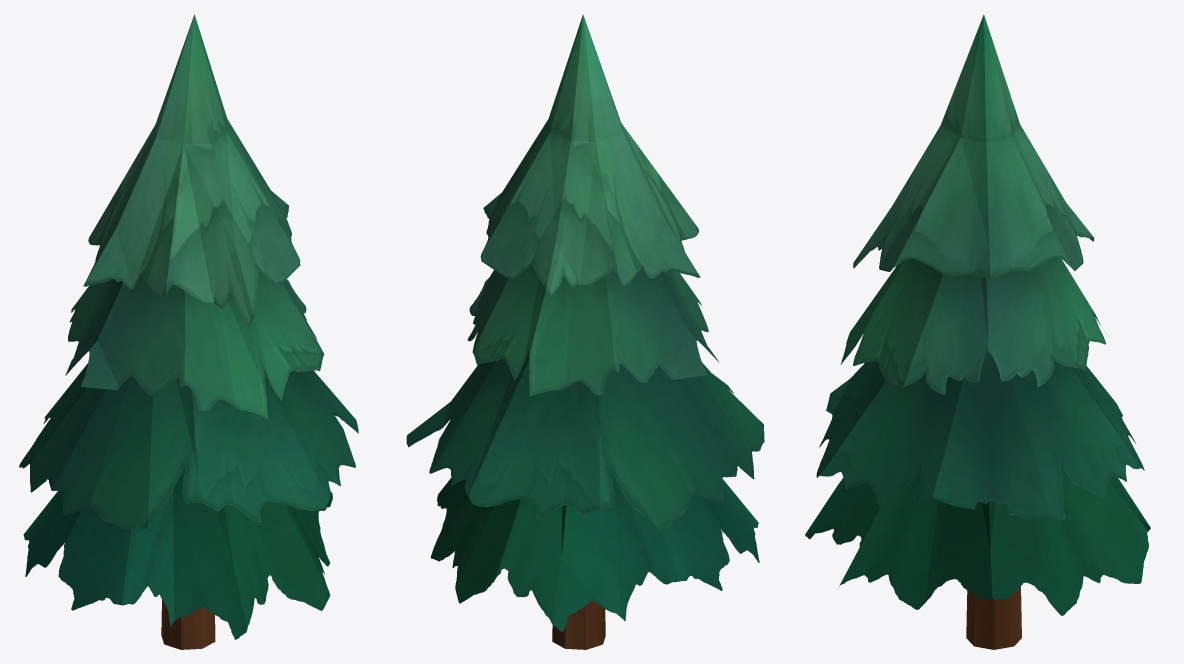
File: caodi_shu_01.fbx
The picture shows the model from 3 angles, left to right: view 1: azimuth 30°, elevation 25°; view 2: azimuth 150°, elevation 25°; view 3: azimuth 270°, elevation 25°; orthographic projection.
Visible parts, largest first — view 1: caodi_shu_01; view 2: caodi_shu_01; view 3: caodi_shu_01.
Boxes of the visible parts, x1,y1,x2,y2 form: caodi_shu_01: (19, 14, 358, 649); caodi_shu_01: (406, 14, 764, 649); caodi_shu_01: (805, 14, 1150, 649).
Size of the model in its own units: 3.01 by 5.46 by 2.96.
